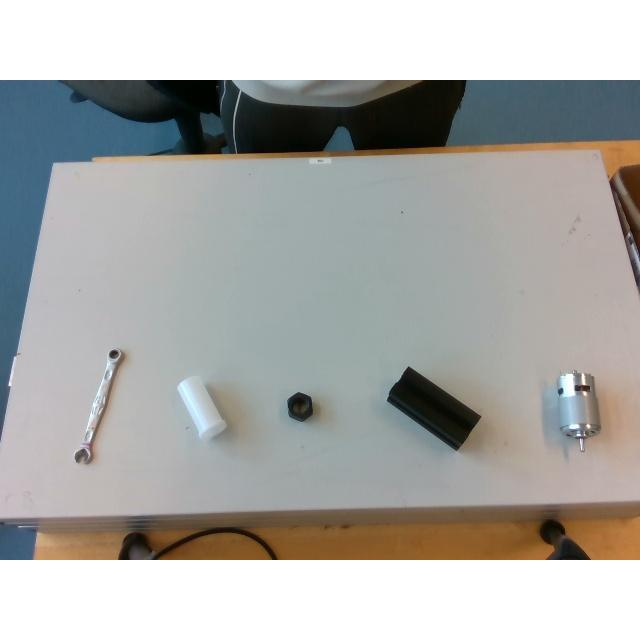M20: (288, 392, 312, 421)
Motor2: (556, 370, 600, 450)
S40_40_B: (388, 367, 480, 449)
Spacer: (178, 376, 226, 440)
Wrench: (74, 348, 122, 464)
